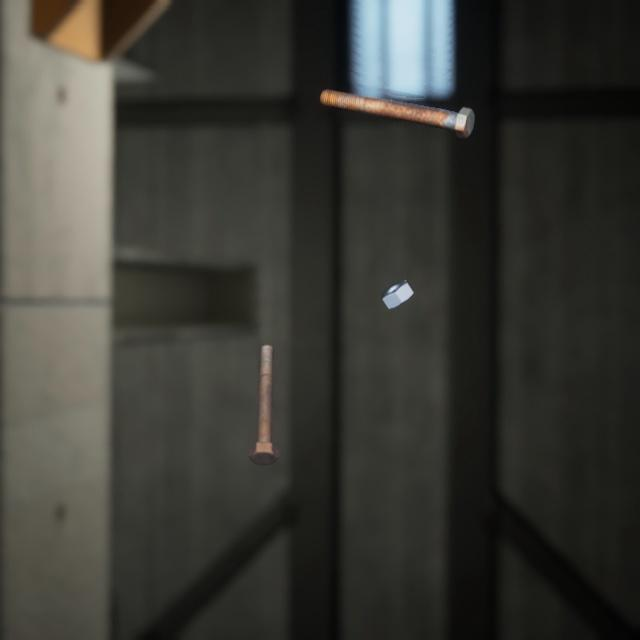bolt: (315, 74, 478, 131), (243, 320, 283, 449)
nut: (376, 259, 418, 297)
